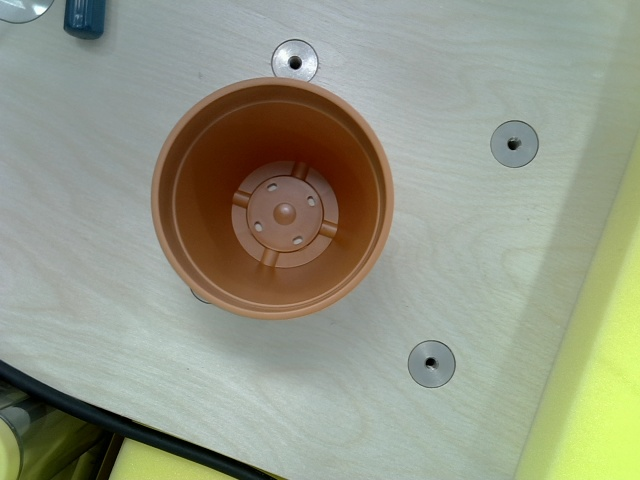화분: (149, 76, 397, 322)
